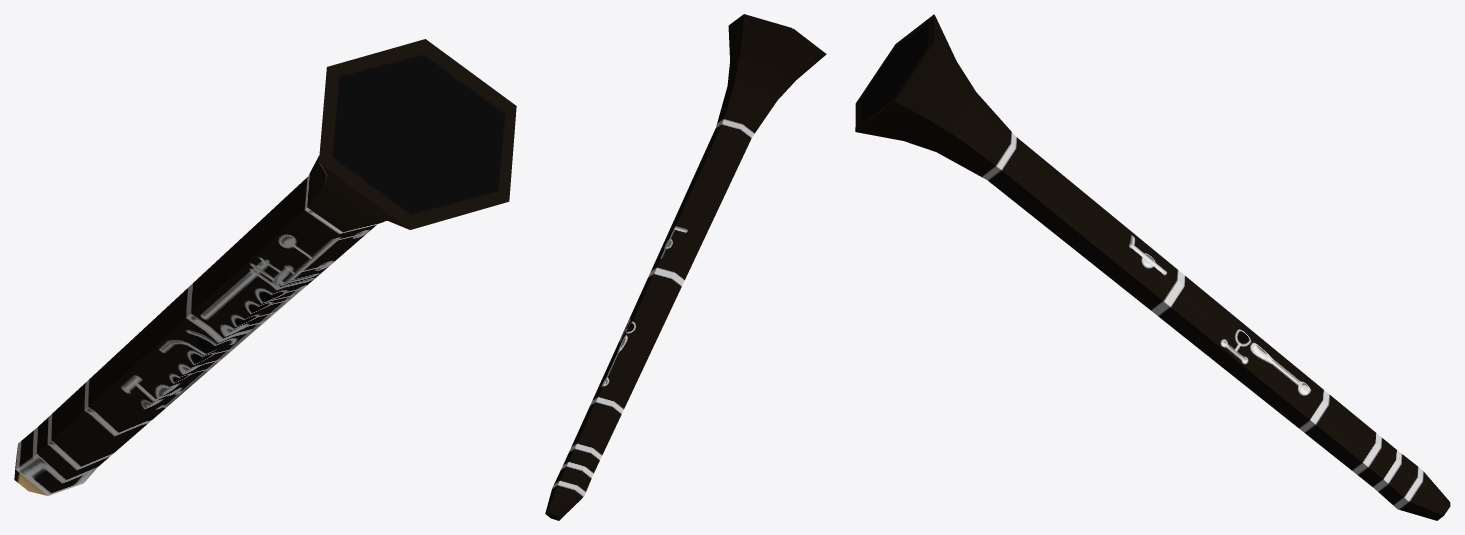
File: flauta3_000013.obj
The picture shows the model from 3 angles, left to right: view 1: azimuth 30°, elevation 25°; view 2: azimuth 150°, elevation 25°; view 3: azimuth 270°, elevation 25°; orthographic projection. The views are drawn at different scales.
Visible parts, largest first — view 1: f3_Flauta_3:Flauta_2:Flauta_1:pCylinder3; view 2: f3_Flauta_3:Flauta_2:Flauta_1:pCylinder3; view 3: f3_Flauta_3:Flauta_2:Flauta_1:pCylinder3.
Part boxes in pixels (x1,y1,x2,y2): f3_Flauta_3:Flauta_2:Flauta_1:pCylinder3: [14, 39, 516, 495]; f3_Flauta_3:Flauta_2:Flauta_1:pCylinder3: [545, 14, 826, 520]; f3_Flauta_3:Flauta_2:Flauta_1:pCylinder3: [855, 14, 1450, 520].
Size of the model in its own units: 1.19 by 4.22 by 4.75.
